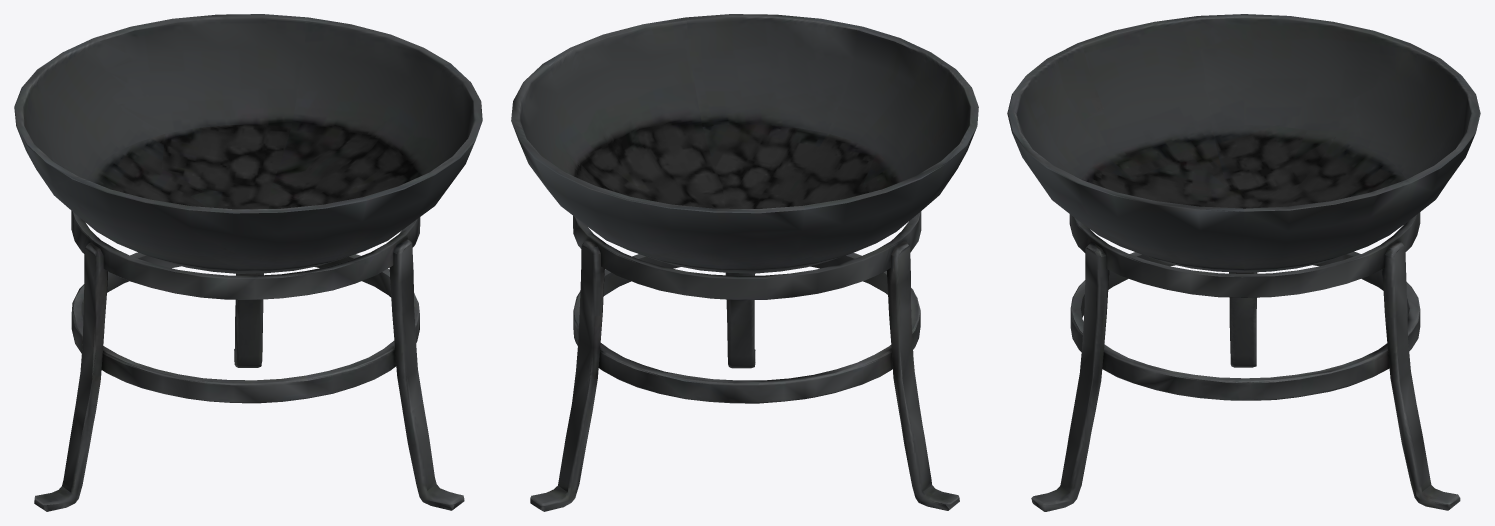
The model's file is brazier.glb.
3 views of the same model, side by side, from view 1: azimuth 30°, elevation 25°; view 2: azimuth 150°, elevation 25°; view 3: azimuth 270°, elevation 25° (orthographic).
Visible parts, largest first — view 1: model; view 2: model; view 3: model.
Boxes of the visible parts, left/top/right/bottom form: model: left=14, top=14, right=482, bottom=511; model: left=511, top=14, right=978, bottom=511; model: left=1007, top=14, right=1480, bottom=511.
Size of the model in its own units: 1.25 by 1 by 1.24.
Materials: 1 (1 with a texture image).
